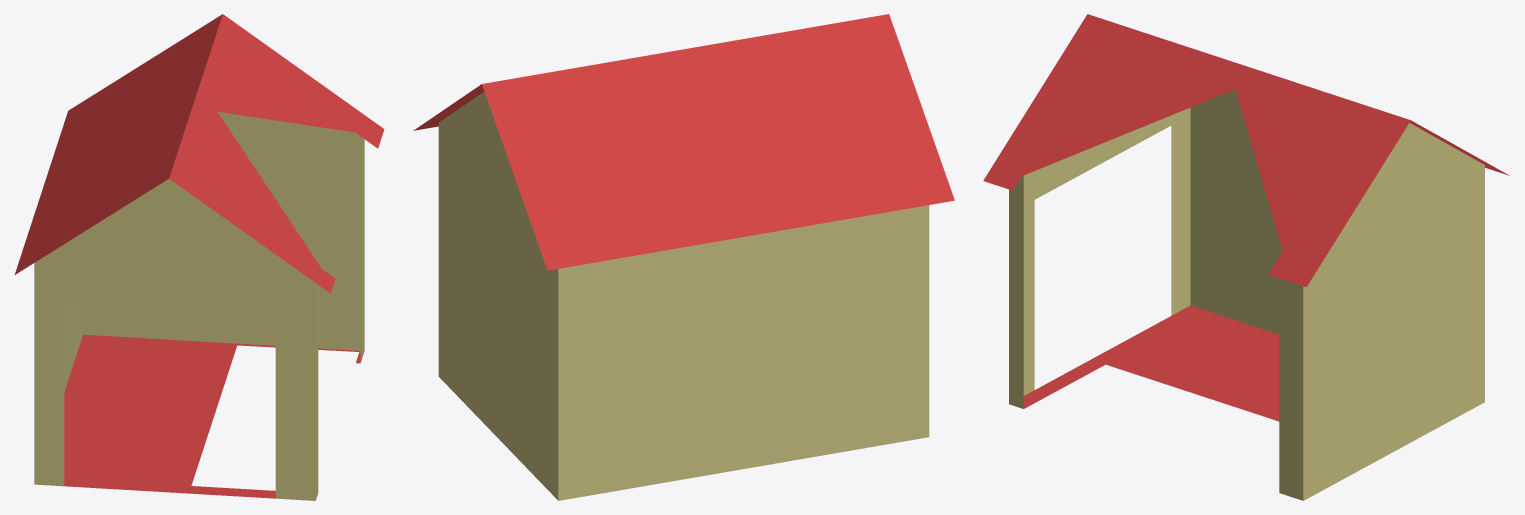
3 renders of one model, left to right at view 1: azimuth 30°, elevation 25°; view 2: azimuth 150°, elevation 25°; view 3: azimuth 270°, elevation 25°, orthographic. The views are drawn at different scales.
Size of the model in its own units: 14.03 by 14.4 by 10.08.
